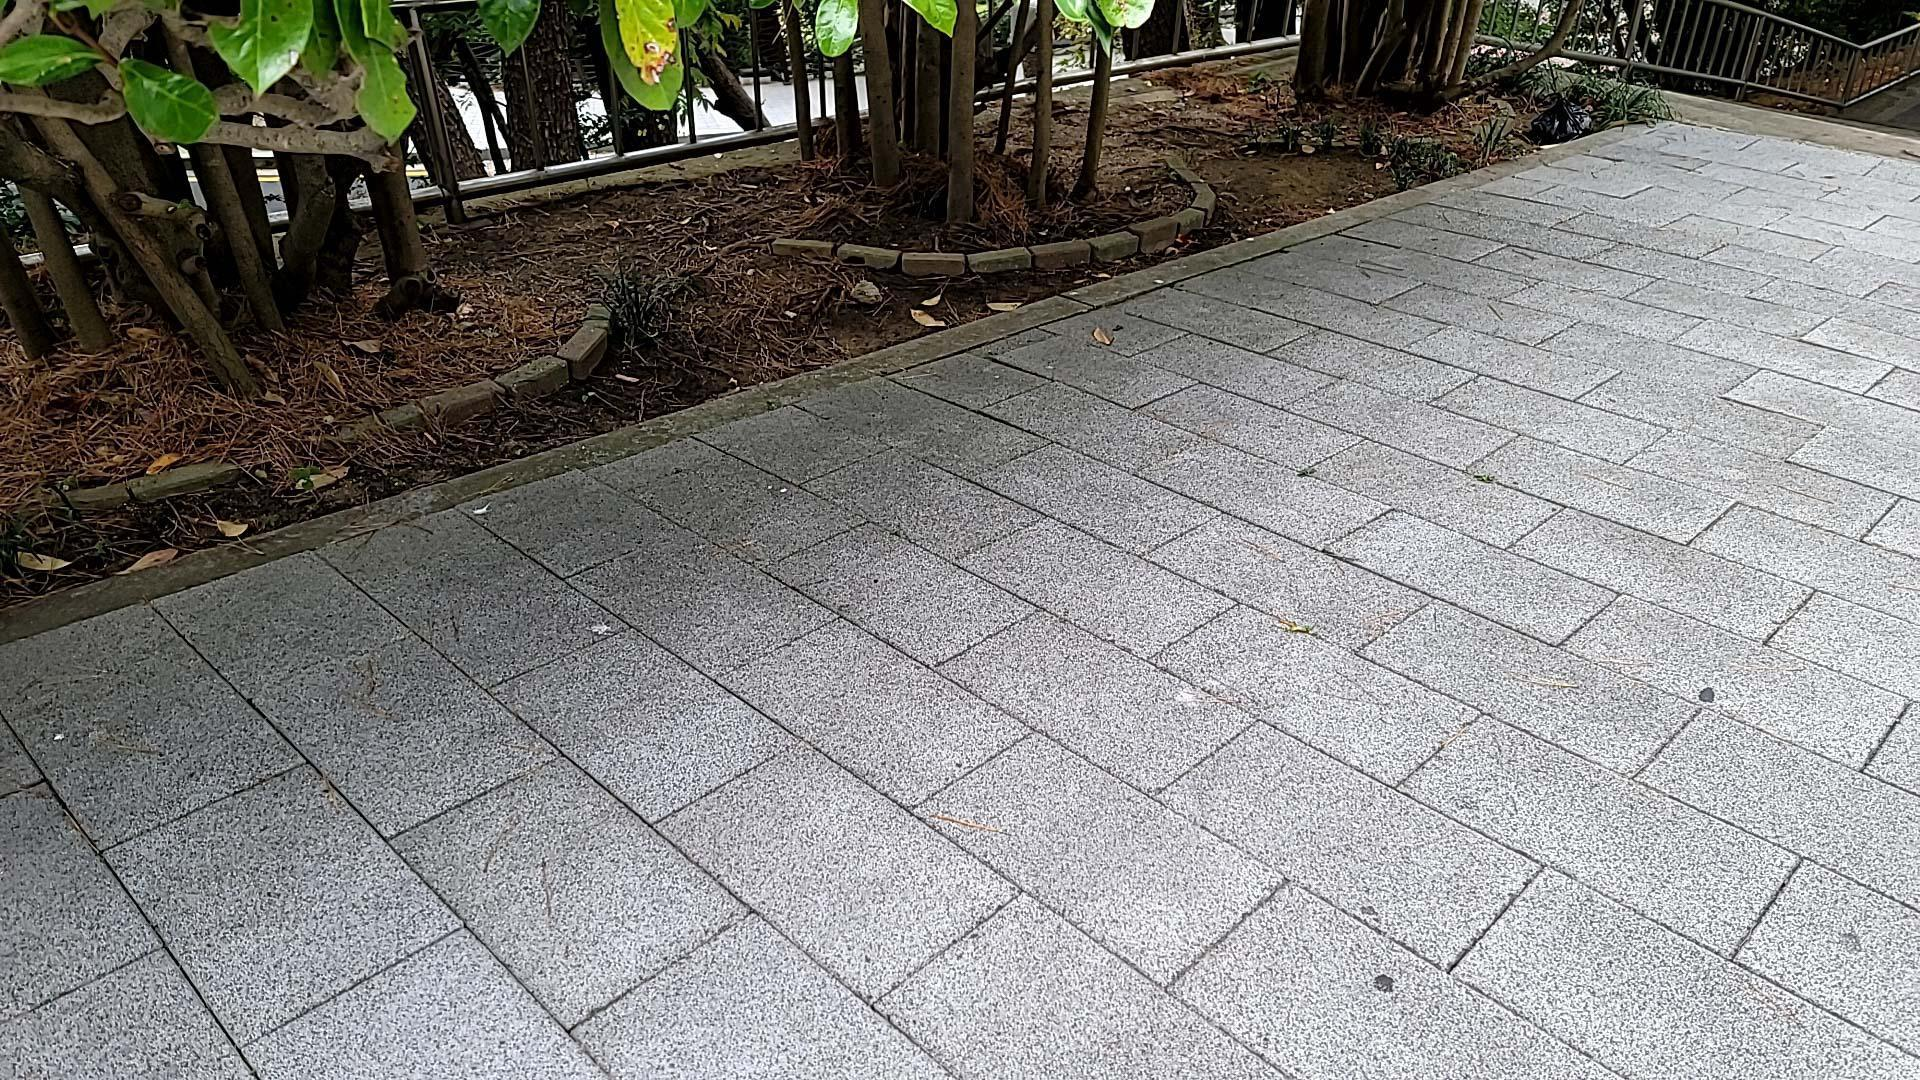black_bag: (1524, 83, 1600, 146)
